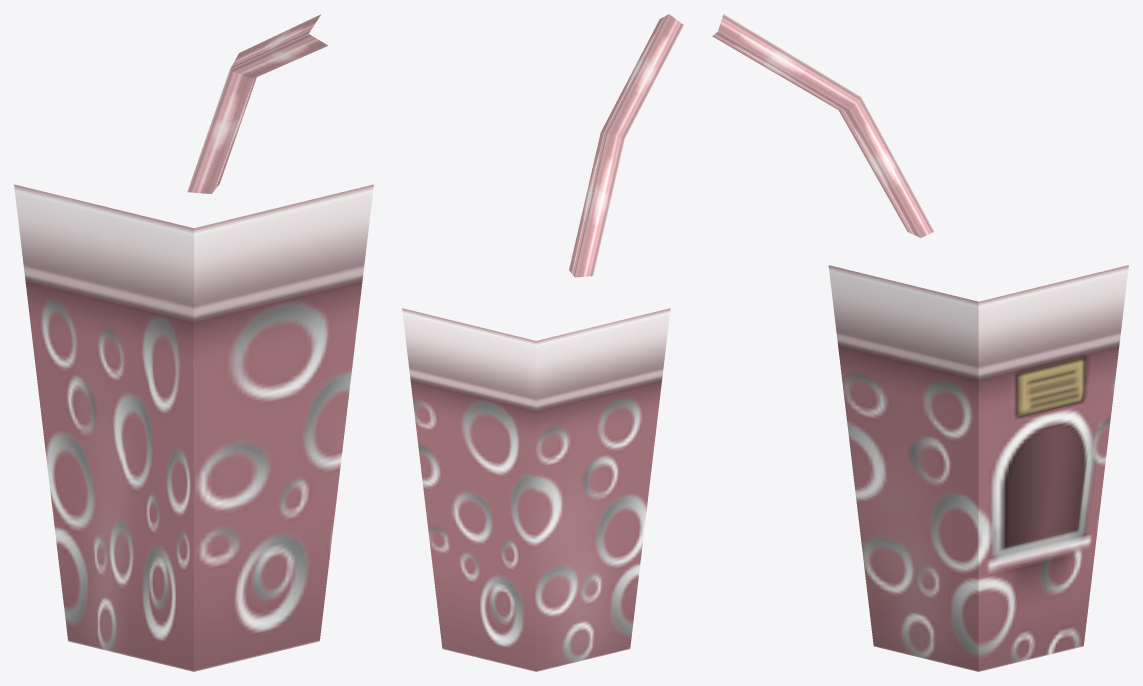
File: drinks.glb
3 views of the same model, side by side, from view 1: azimuth 30°, elevation 25°; view 2: azimuth 150°, elevation 25°; view 3: azimuth 270°, elevation 25° (orthographic). The views are drawn at different scales.
Parts seen in each view (by area): view 1: drinks; view 2: drinks; view 3: drinks.
Part boxes in pixels (bbox=[...]): drinks: bbox=[14, 14, 373, 671]; drinks: bbox=[402, 14, 683, 671]; drinks: bbox=[712, 14, 1128, 671].
Bounding box in the file's own units: 307 × 582 × 368.
Materials: 1 (1 with a texture image).
